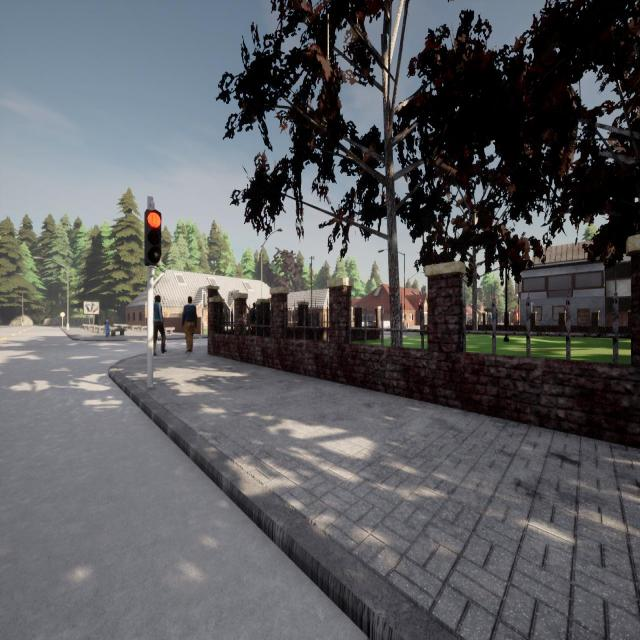Pedestrian: (182, 296, 197, 353), (153, 295, 166, 355), (250, 301, 256, 330), (104, 318, 110, 337), (488, 312, 491, 324)
Traffic_Signs: (60, 312, 65, 318)
traffic_light: (144, 210, 162, 266), (203, 294, 207, 307), (418, 302, 421, 310)
